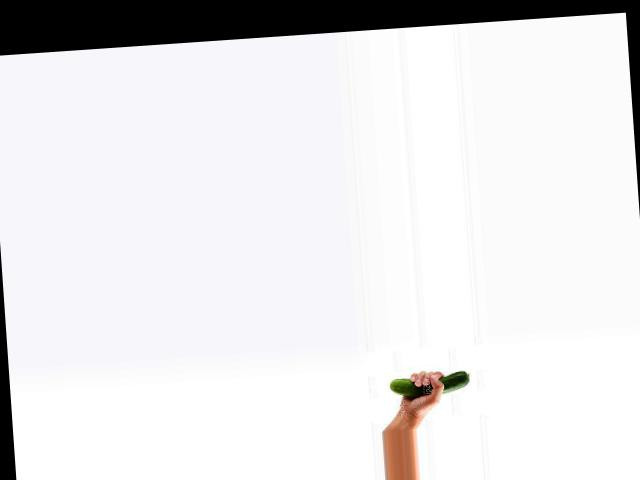cucumber: (389, 369, 470, 398)
